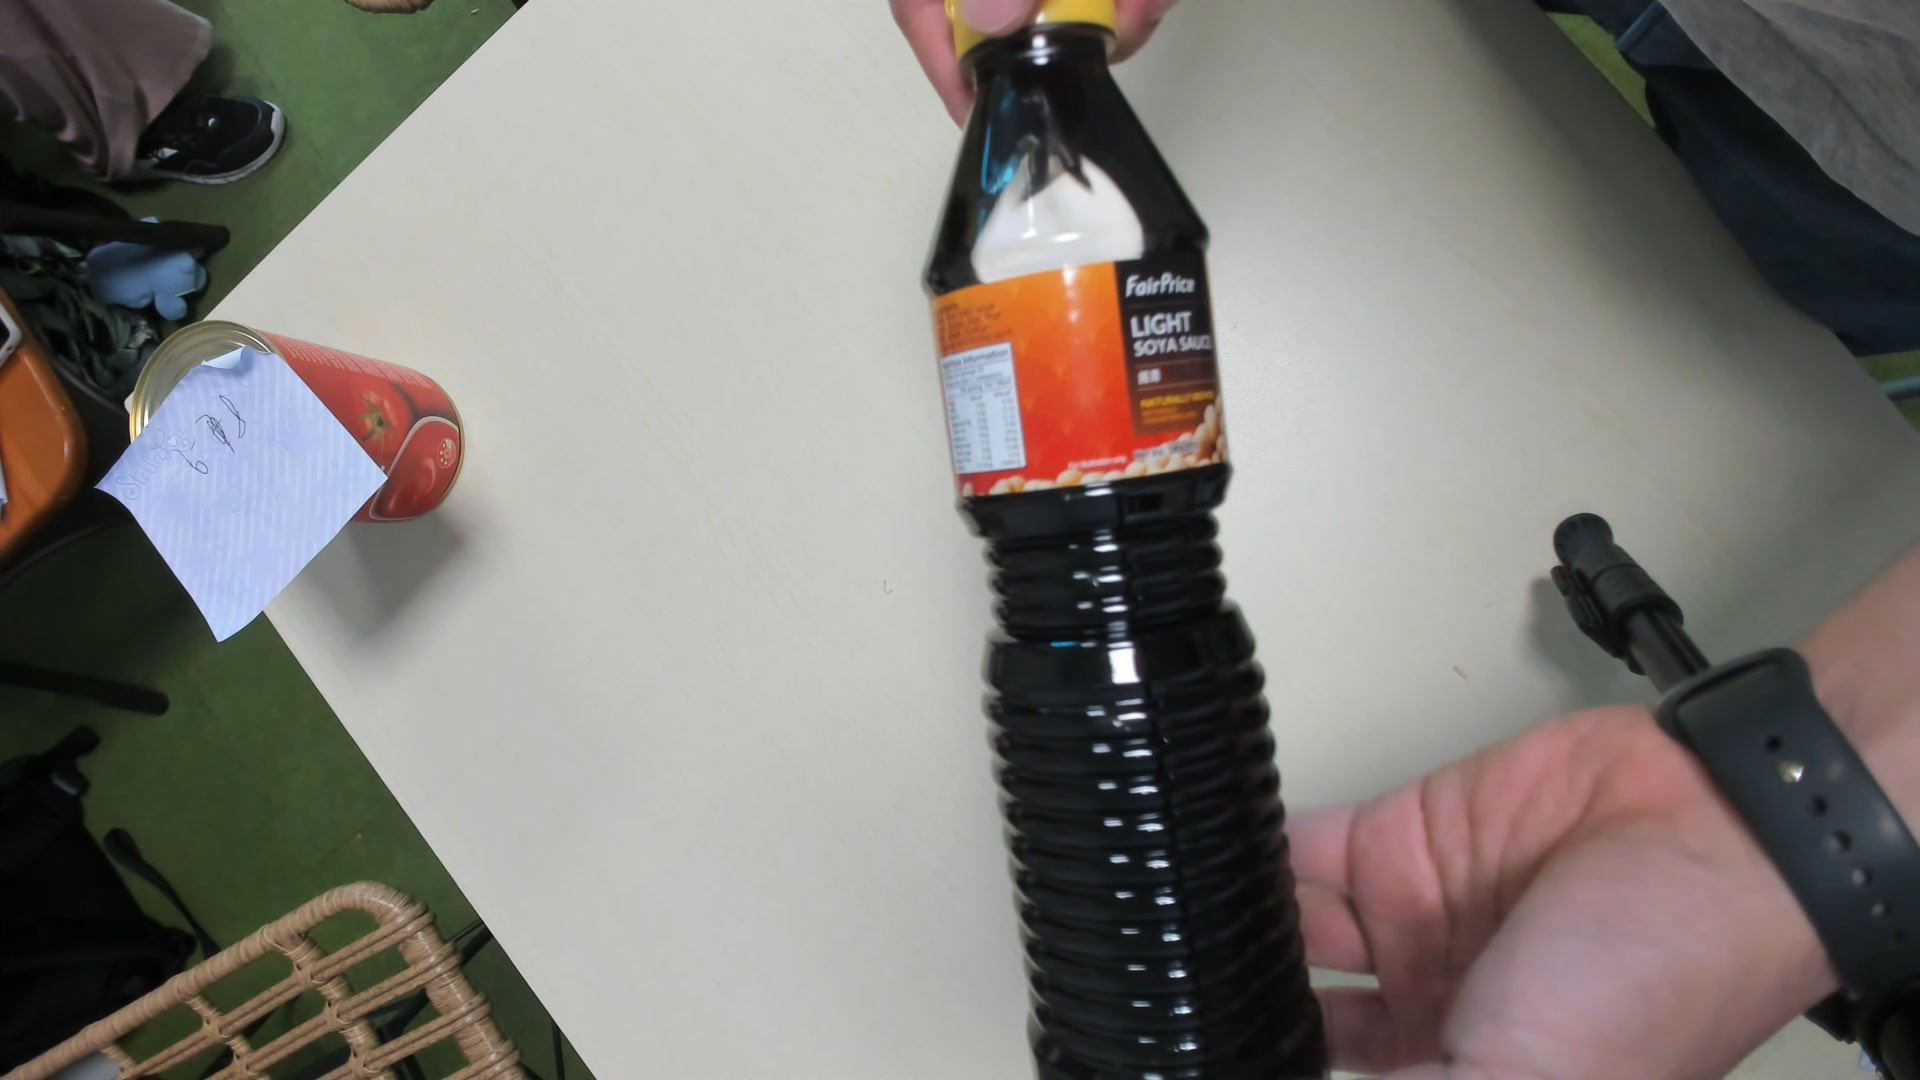OtherSauceDressingSoupbasePaste_600-699g_Halal_NonHealthy: (924, 3, 1327, 1080)
